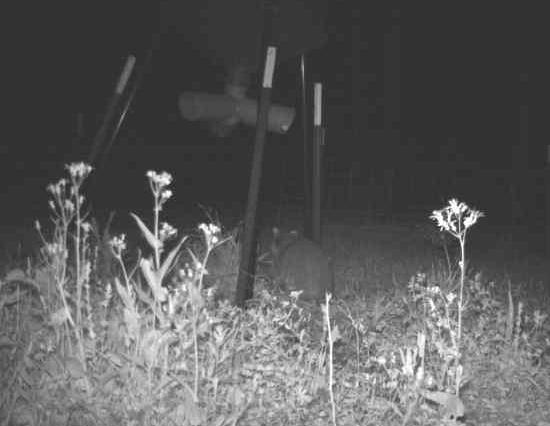Raccoon: (267, 221, 334, 299)
